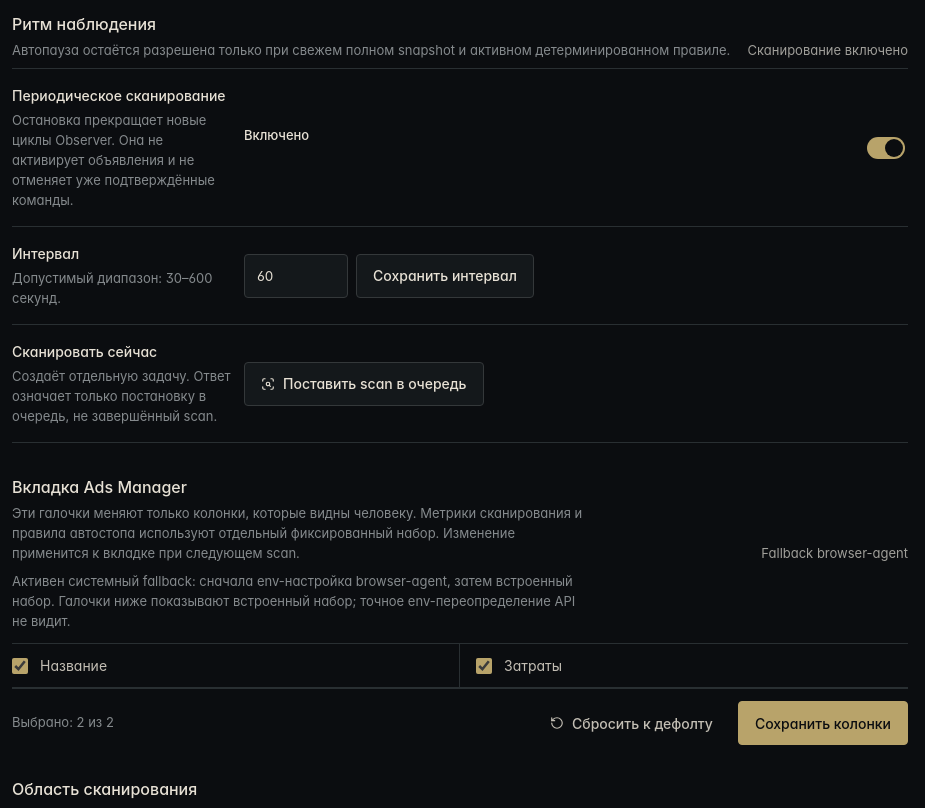
ObserverTab › валидирует интервал и показывает честный queued scan lifecycle
Click the button "Поставить scan в очередь".
click(364, 384)  # box [244,362,484,406]
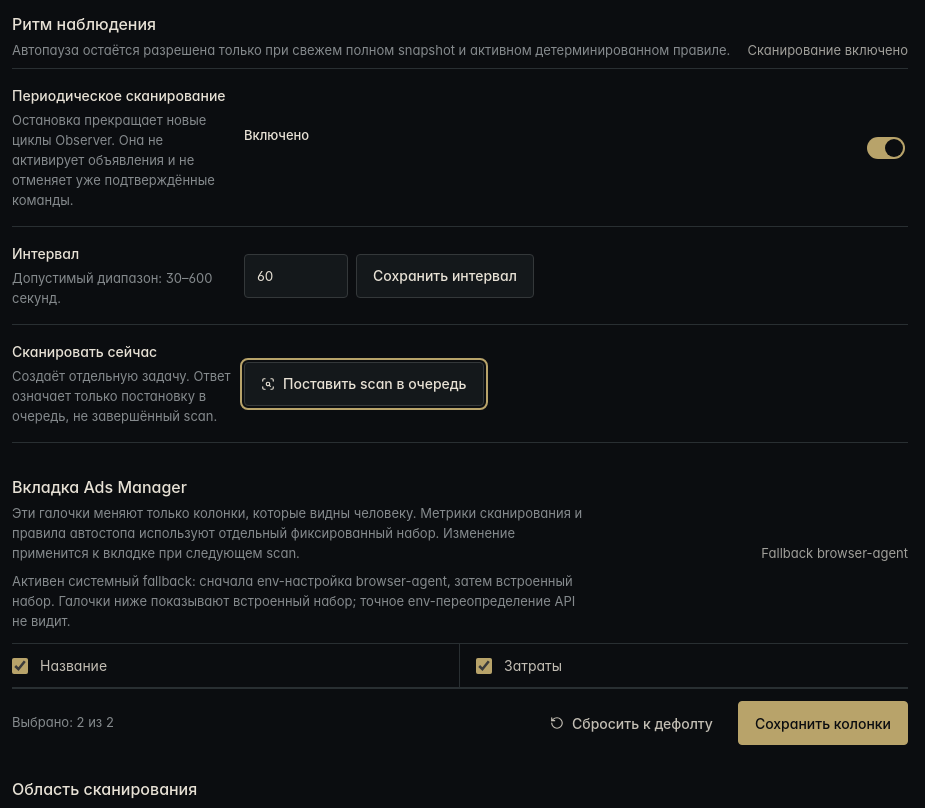
Replace the text in the number field named "Интервал сканирования в секундах" with "20" at (296, 276), box [244,254,348,298]
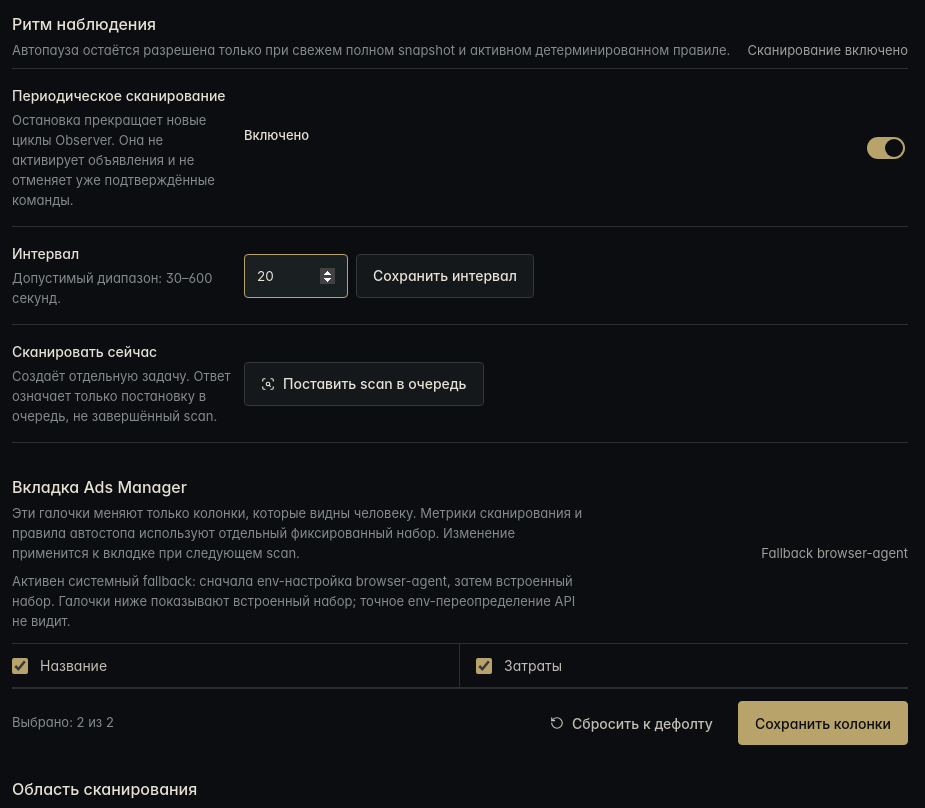
Click the button "Сохранить интервал".
click(445, 276)  # box [356,254,534,298]
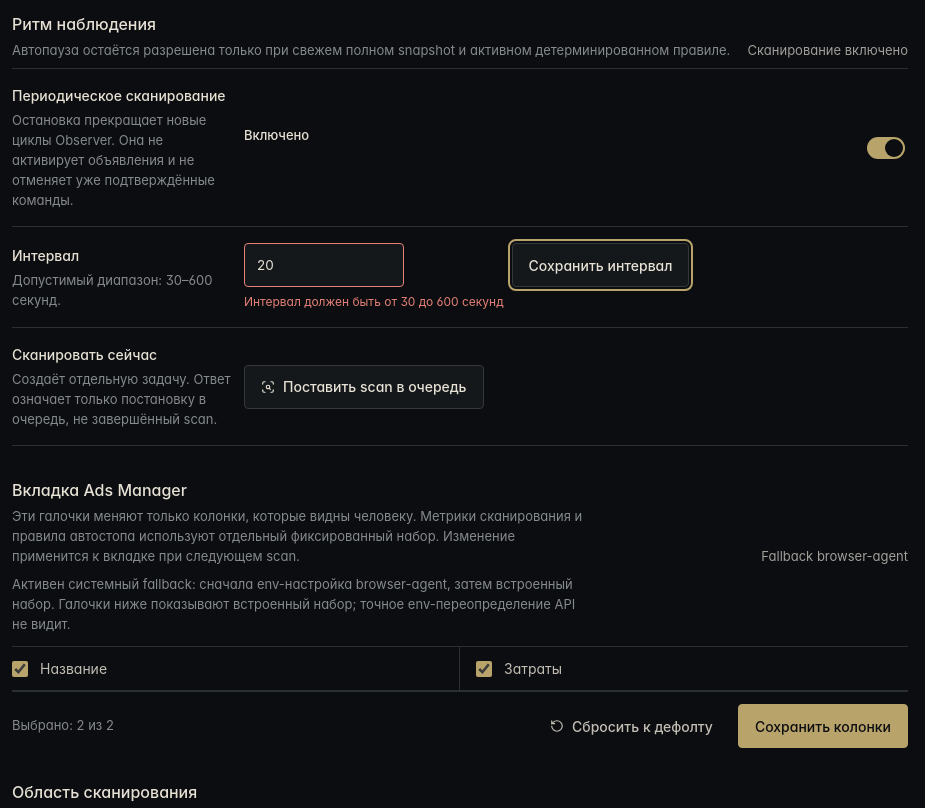
Now the text "Интервал должен быть от 30 до 600 секунд" is shown, box [244,293,504,311]
